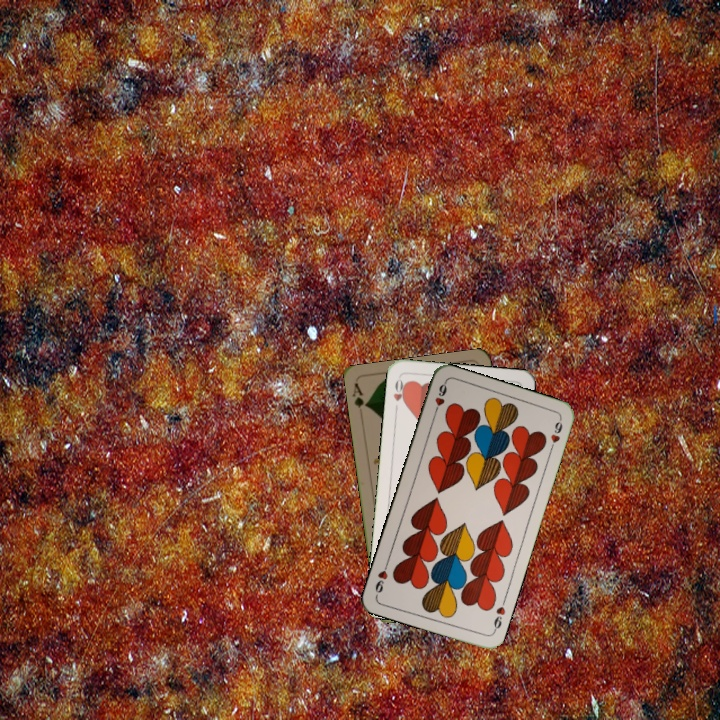GA: (349, 380, 370, 410)
H9: (430, 379, 449, 418), (489, 596, 508, 635)
HO: (389, 374, 409, 414)
